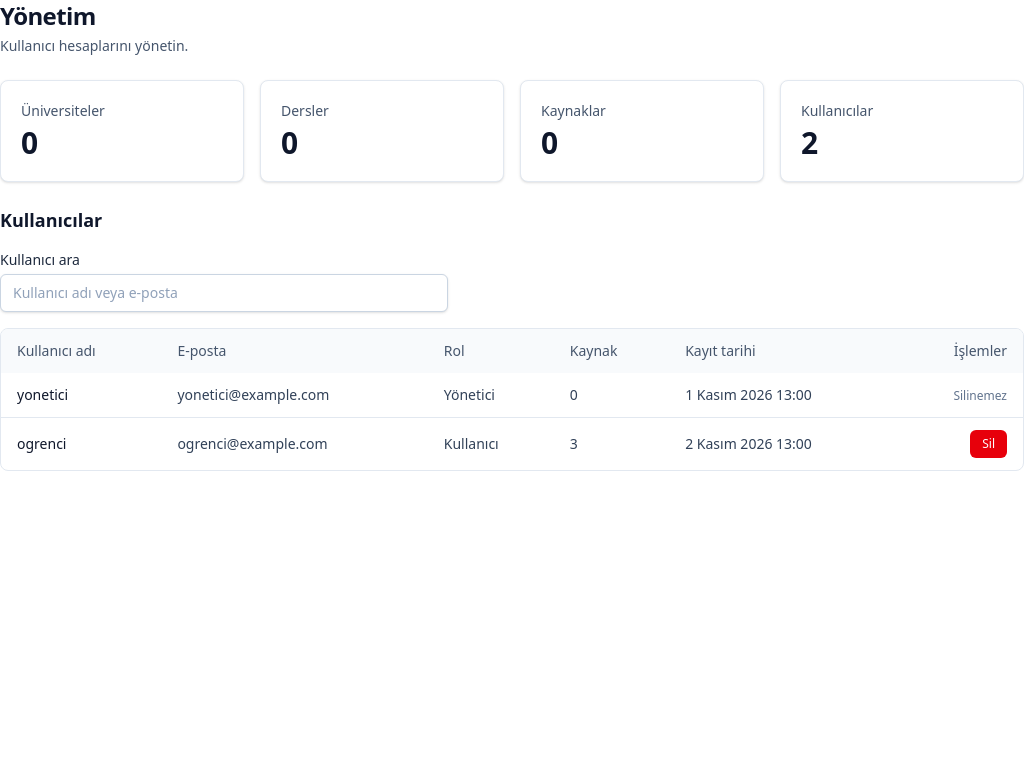
it: AdminPage › deletes a regular user after confirmation but protects admin accounts
The image size is (1024, 768).
Expected: the text "Silinemez" is shown, [953,387,1007,404]
Click the button with aria-label "ogrenci hesabını sil" at (989, 444), box [970,430,1007,458]
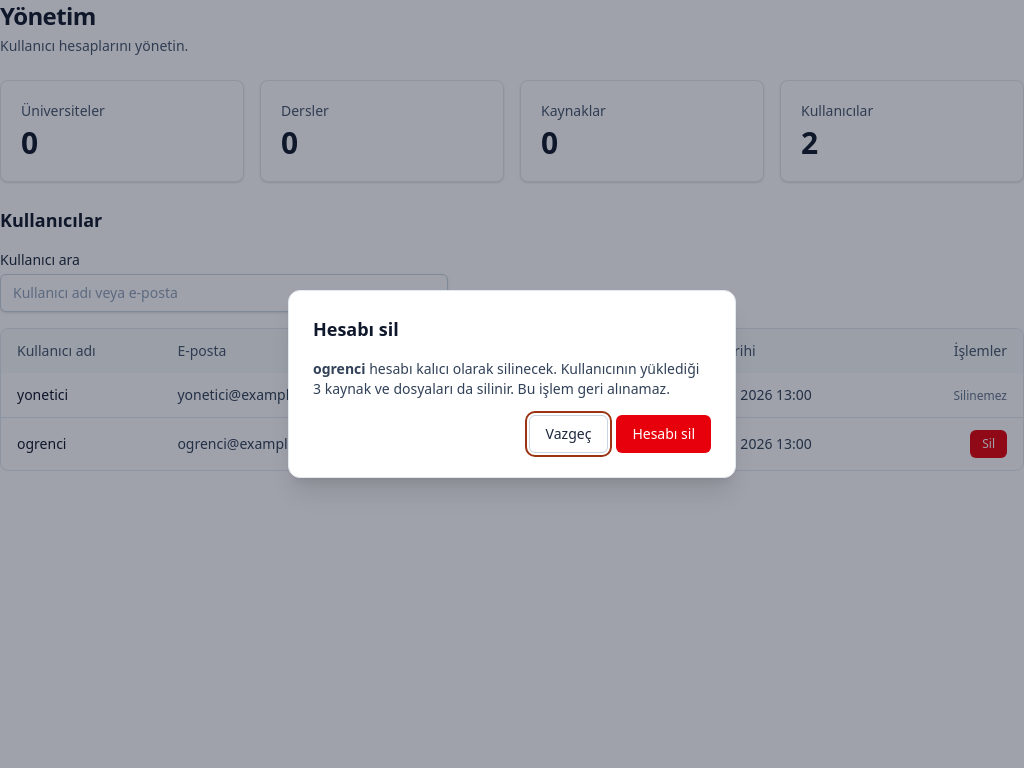
Now the dialog "Hesabı sil" shows "yüklediği 3 kaynak", box [288,290,736,478]
Click the button "Hesabı sil" at (664, 434), box [616,415,711,453]
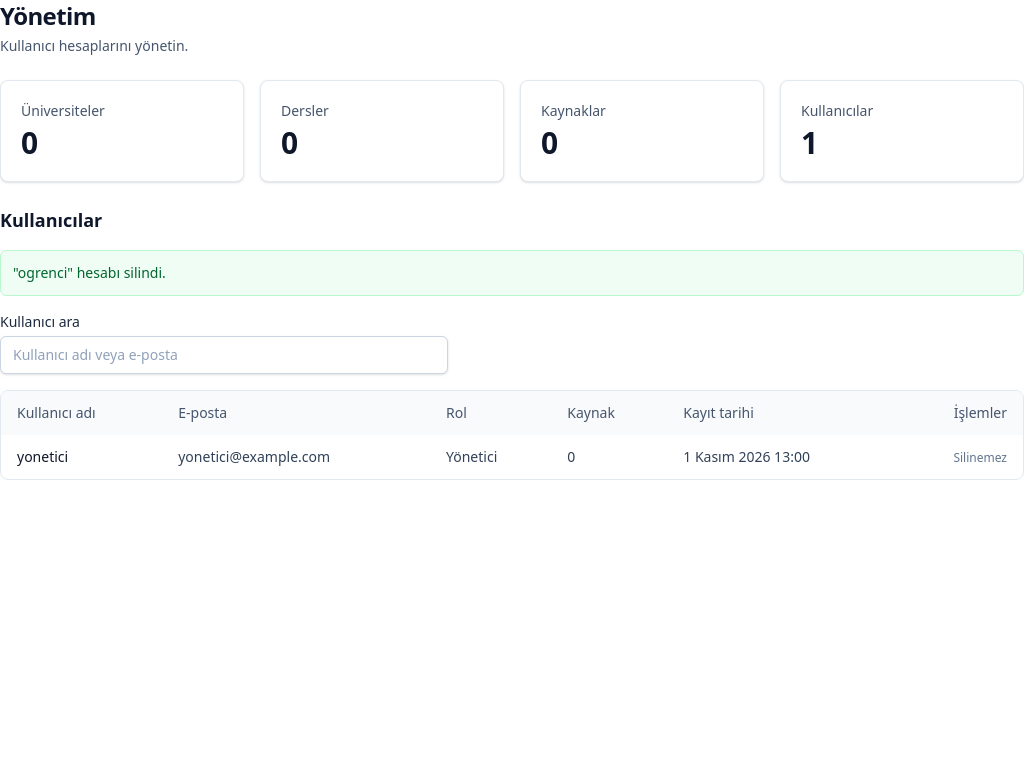
Now the text "\"ogrenci\" hesabı silindi." is shown, box [0,250,1023,296]
